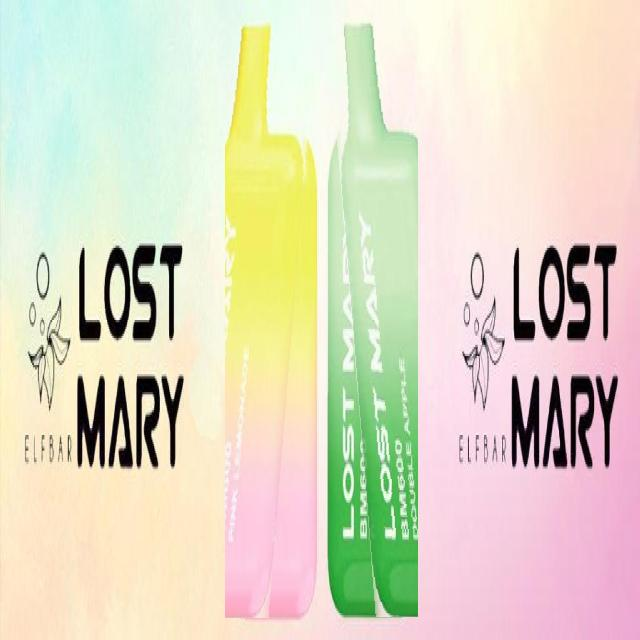Vapes: (225, 22, 317, 618), (327, 18, 418, 617)
